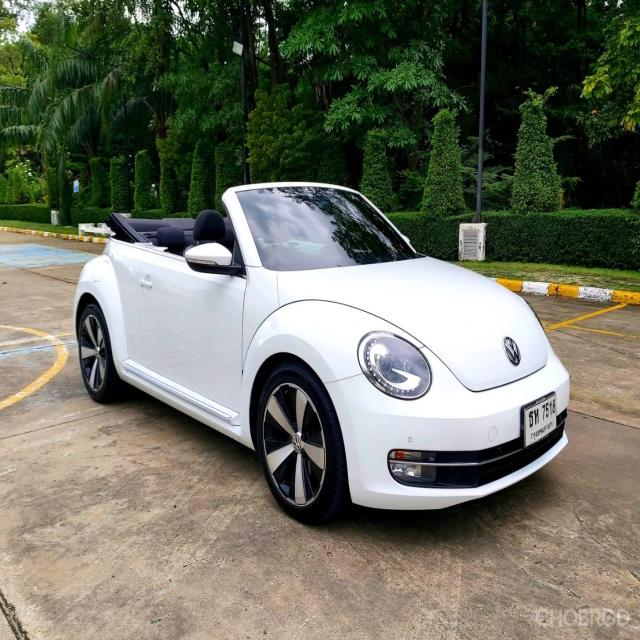license_plate: (521, 392, 560, 454)
